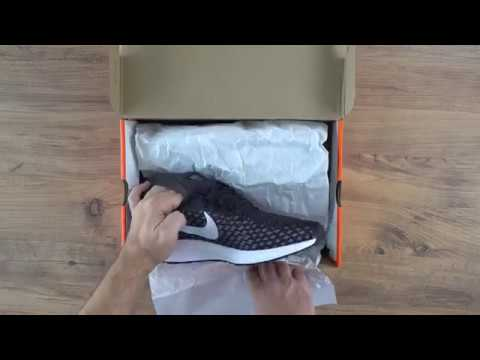nike: (180, 212, 222, 243)
